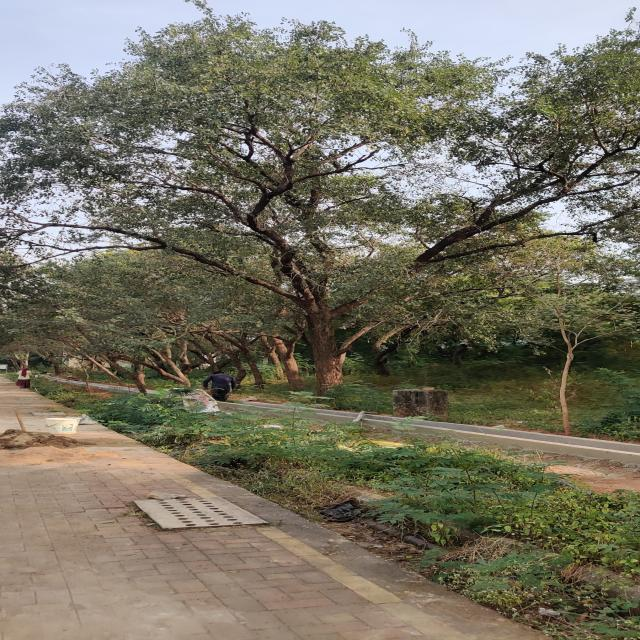Devakanchan tree: (61, 45, 617, 376)
